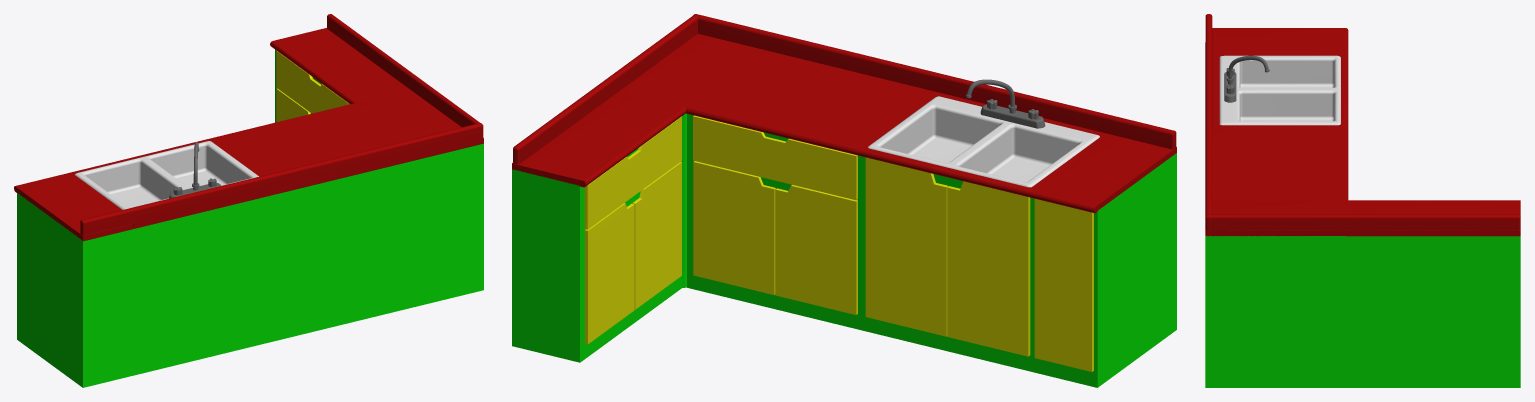
Rendered from K_Mueble_Cocina_L.fbx.
3 views of the same model, side by side, from view 1: azimuth 30°, elevation 25°; view 2: azimuth 150°, elevation 25°; view 3: azimuth 270°, elevation 25° (orthographic). The views are drawn at different scales.
Visible parts, largest first — view 1: K_WoodBlock_06; view 2: K_WoodBlock_06; view 3: K_WoodBlock_06.
Part boxes in pixels (box(x1,y1,x2,y2)): K_WoodBlock_06: box(14, 14, 483, 387); K_WoodBlock_06: box(512, 14, 1176, 387); K_WoodBlock_06: box(1205, 14, 1520, 387).
Size of the model in its own units: 248 by 114 by 163.
